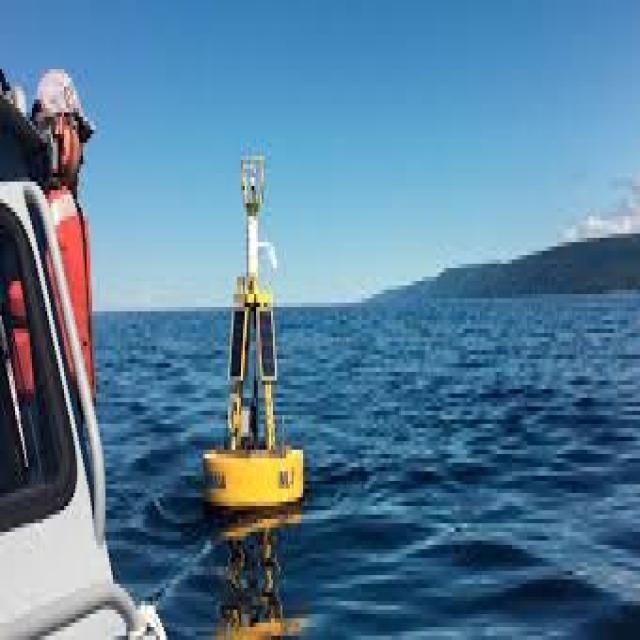marque: (200, 141, 307, 520)
